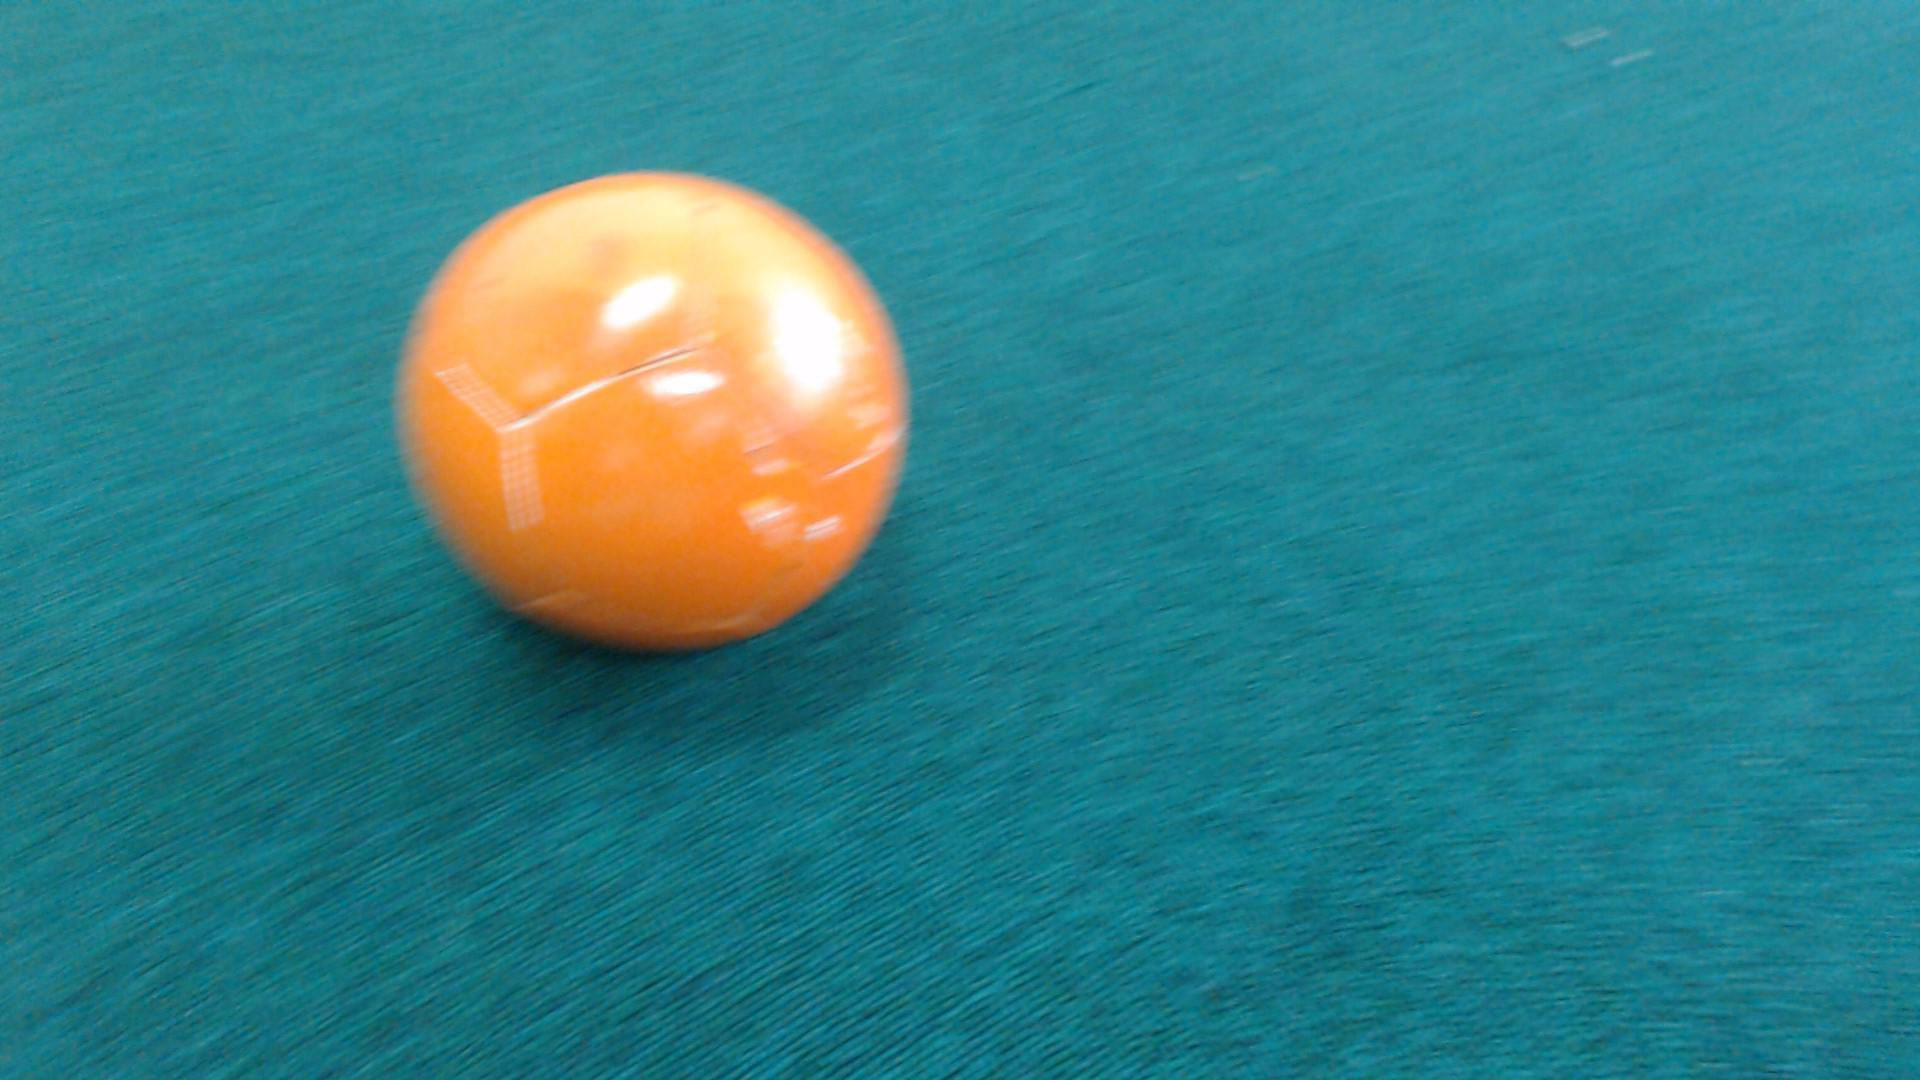bola: (394, 160, 919, 644)
